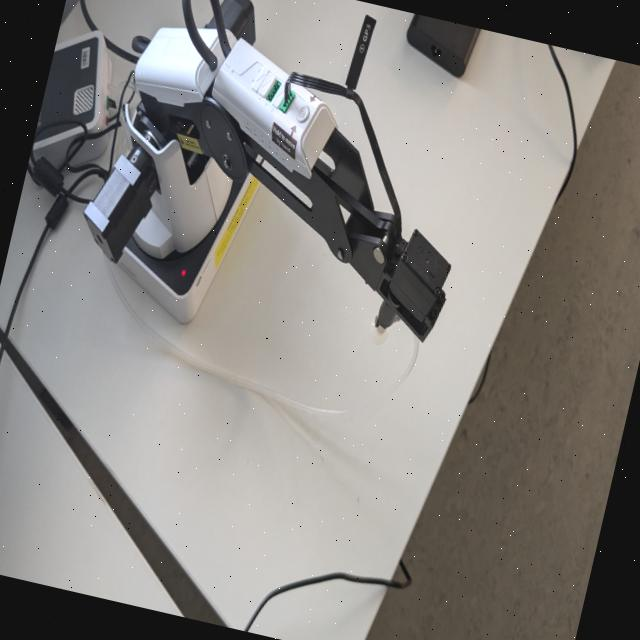Robot-end-effector-HF8z: (354, 218, 462, 362)
